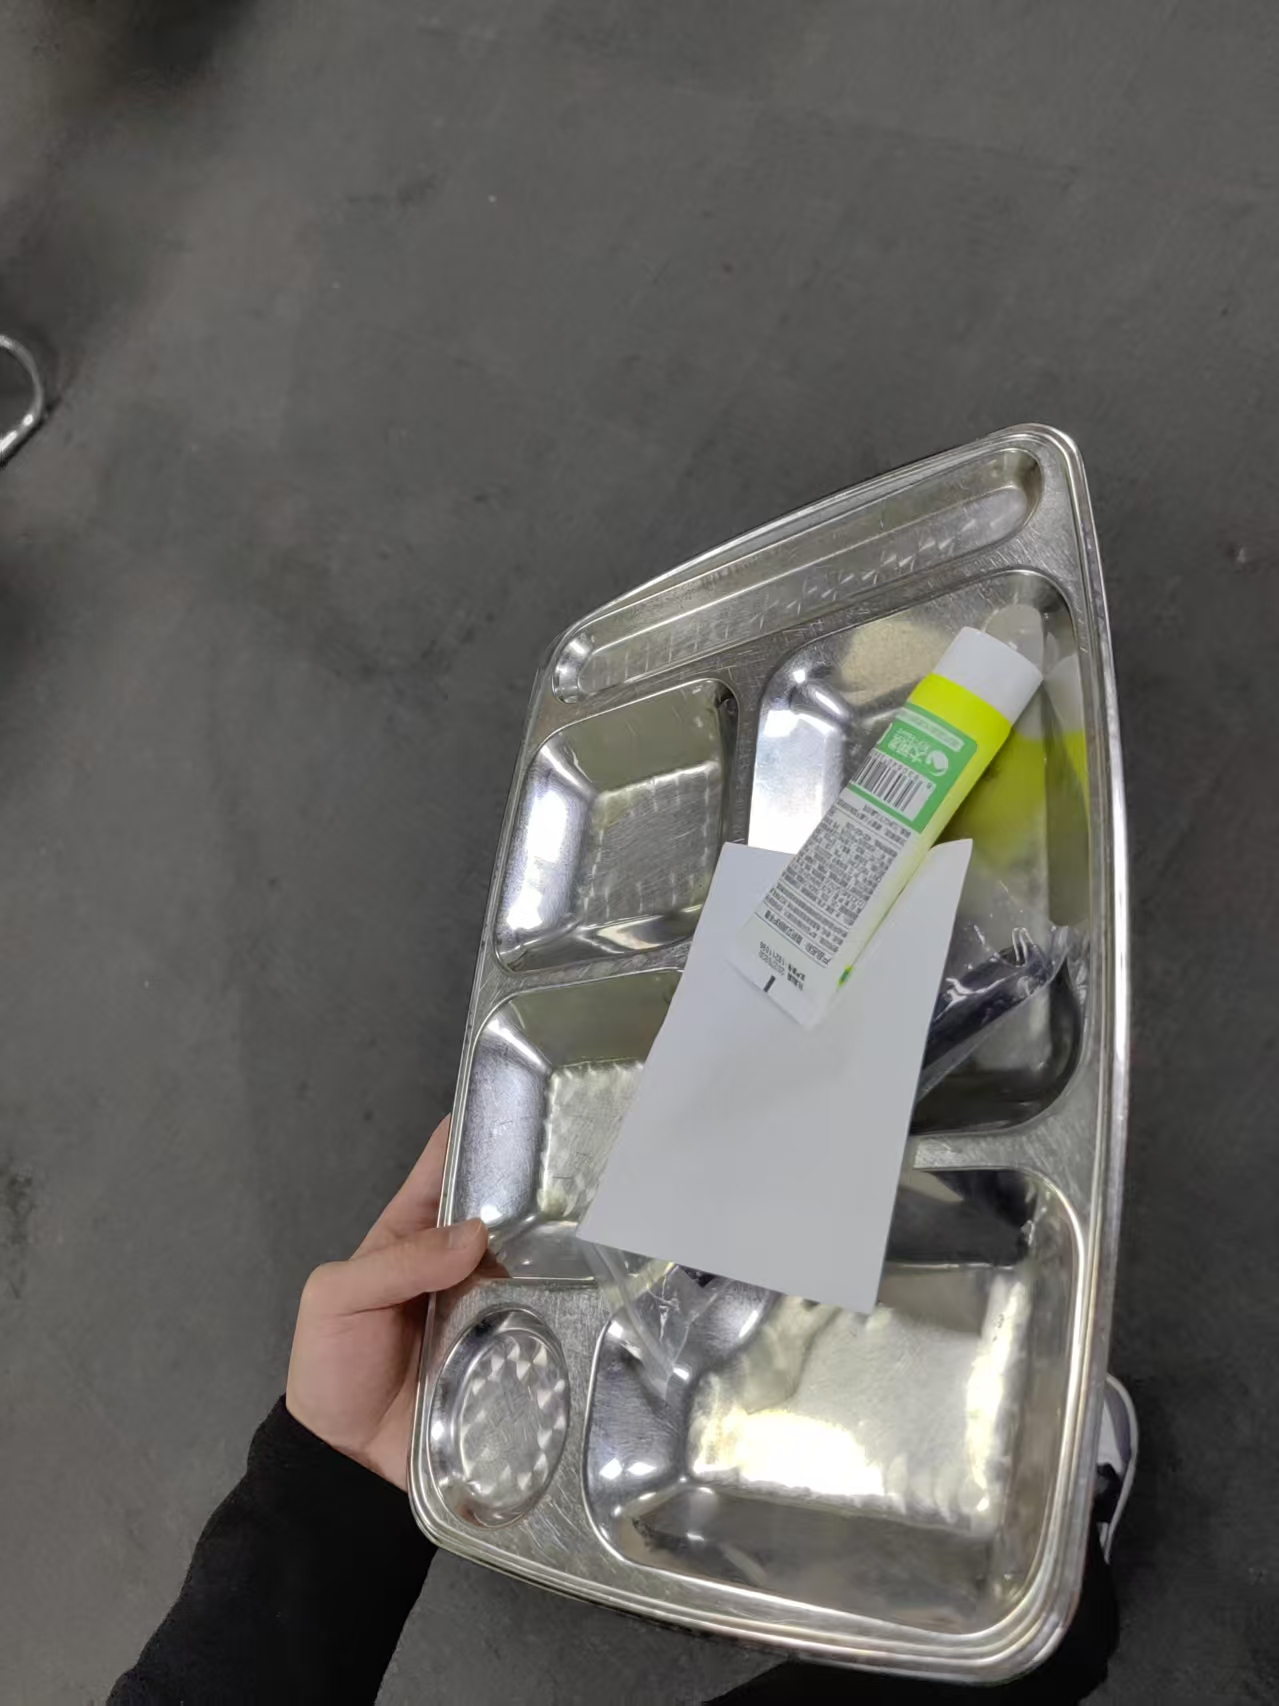mild: (713, 626, 1044, 1031)
plate: (403, 418, 1136, 1688)
tissue: (575, 841, 972, 1316)
